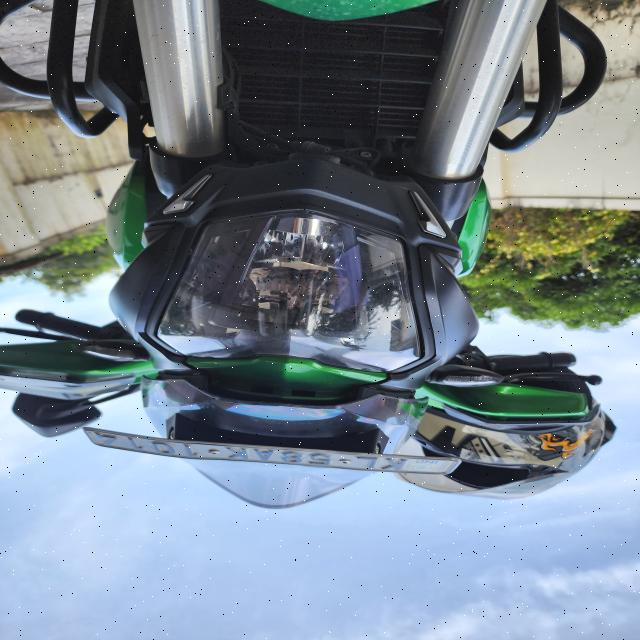headlight: (152, 206, 426, 376)
